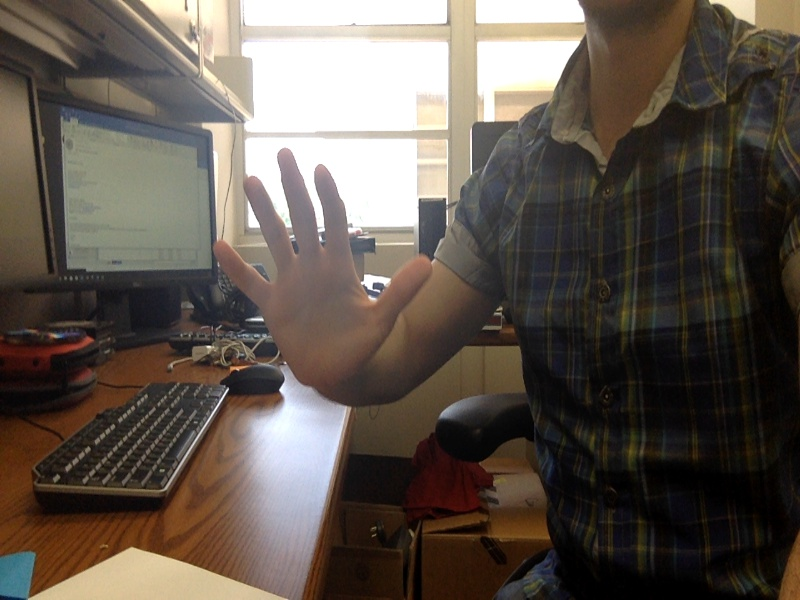5-hand: (213, 147, 430, 384)
